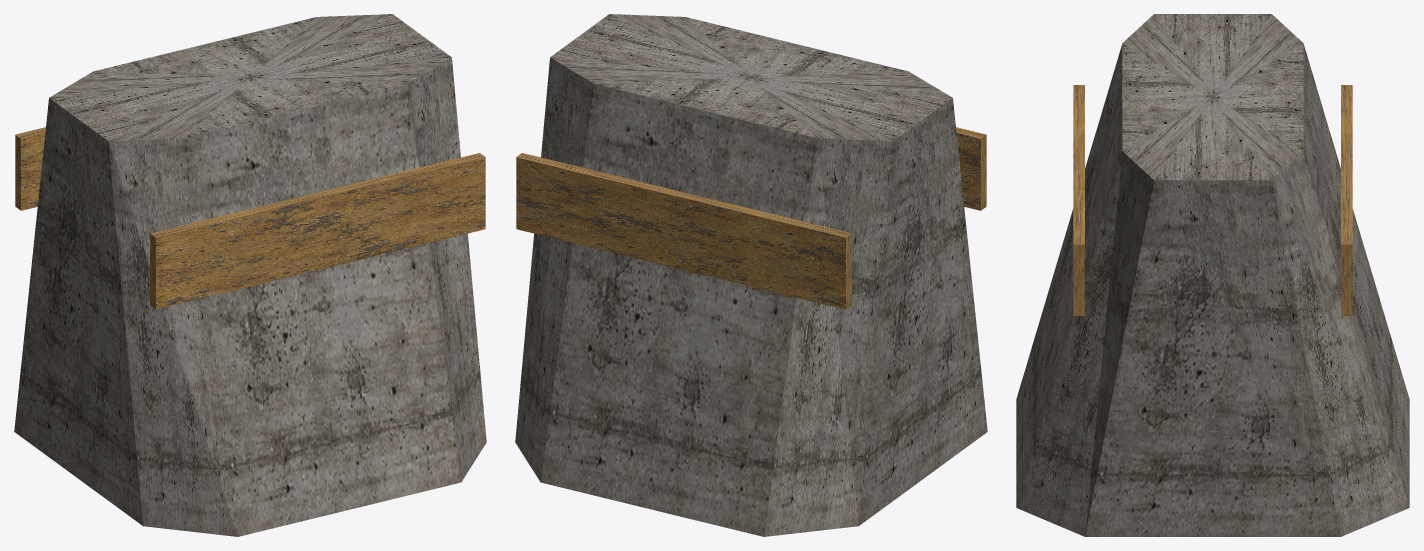
The model's file is barricade.obj.
The picture shows the model from 3 angles, left to right: view 1: azimuth 30°, elevation 25°; view 2: azimuth 150°, elevation 25°; view 3: azimuth 270°, elevation 25°; orthographic projection.
Visible parts, largest first — view 1: barricade; view 2: barricade; view 3: barricade.
Part boxes in pixels (left/top/right/bottom): barricade: left=14, top=14, right=486, bottom=536; barricade: left=515, top=14, right=987, bottom=536; barricade: left=1016, top=14, right=1409, bottom=536.
Size of the model in its own units: 1 by 1 by 1.
1 material, 1 textured.
